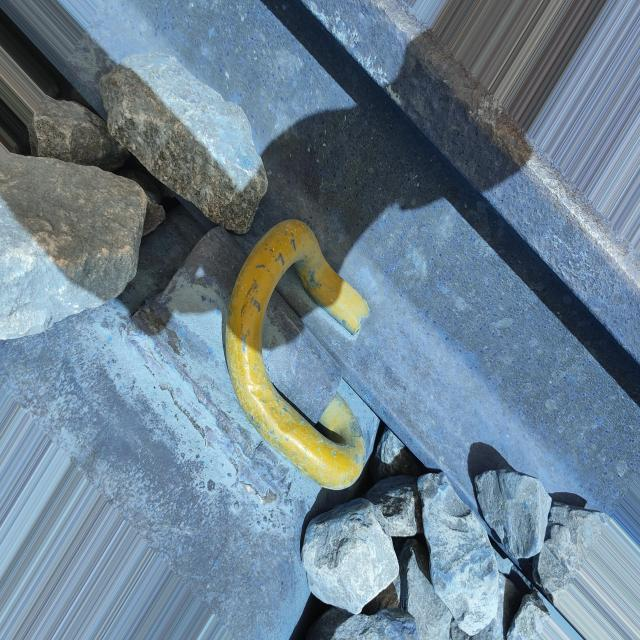Good Fasteners: (119, 220, 379, 507)
